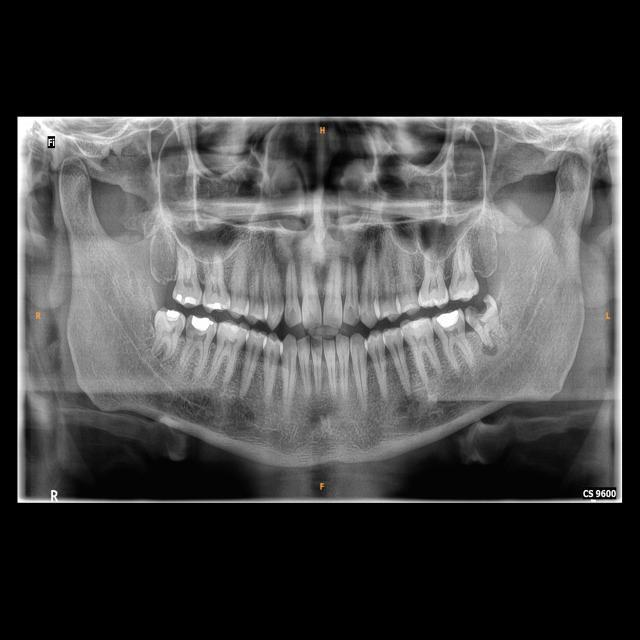dentin-curugu: (469, 298, 489, 322)
dolgu: (189, 310, 214, 334), (435, 310, 461, 330), (170, 290, 198, 308), (207, 298, 226, 312), (164, 308, 180, 324)
kok-enfeksiyonu: (476, 335, 504, 360)
